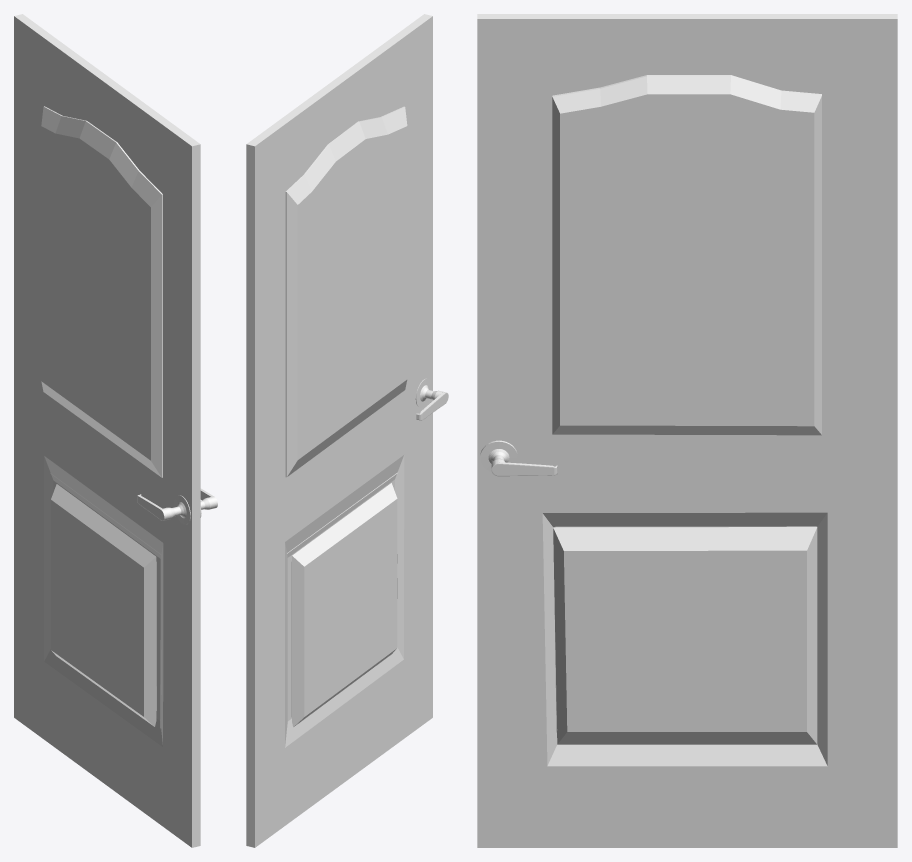
File: puerta.obj
3 views of the same model, side by side, from view 1: azimuth 30°, elevation 25°; view 2: azimuth 150°, elevation 25°; view 3: azimuth 270°, elevation 25° (orthographic). The views are drawn at different scales.
Visible parts, largest first — view 1: puerta_; view 2: puerta_; view 3: puerta_.
Part boxes in pixels (x1,y1,x2,y2): puerta_: (14,14,217,847); puerta_: (246,14,448,847); puerta_: (477,14,897,847).
Bounding box in the file's own units: 0.8444 × 10.5 × 4.83.
Materials: 1 (1 with a texture image).
